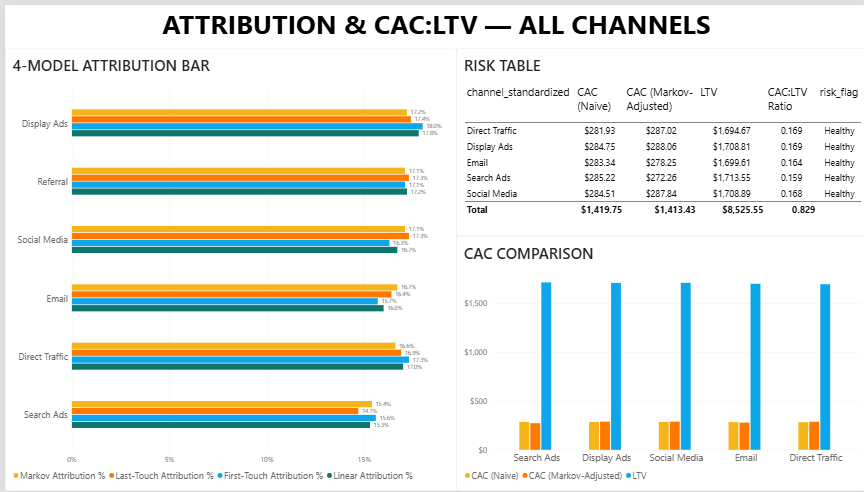

What the dashboard file says about the page in this screenshot:
{"tool":"powerbi","page":{"name":"ATTRIBUTION & CAC:LTV — ALL CHANNELS","canvas":[1920,1080],"ordinal":2},"visuals":[{"type":"clusteredBarChart","title":"4-MODEL ATTRIBUTION BAR","fields":{"Category":["attribution_comparison.channel_standardized"],"Y":["Key Measures.Markov Attribution %","Key Measures.Last-Touch Attribution %","Key Measures.First-Touch Attribution %","Key Measures.Linear Attribution %"]},"box":[0,78.1,1002.8,1002.8],"z":0},{"type":"textbox","box":[0,0,1919.1,77.2],"z":1000},{"type":"clusteredColumnChart","title":"CAC COMPARISON","fields":{"Category":["cac_ltv_analysis.channel_standardized"],"Y":["Key Measures.CAC (Naive)","Key Measures.CAC (Markov-Adjusted)","Key Measures.LTV"]},"box":[1002.8,492.8,917.4,588],"z":2000},{"type":"tableEx","title":"RISK TABLE","fields":{"Values":["cac_ltv_analysis.channel_standardized","Key Measures.CAC (Naive)","Key Measures.CAC (Markov-Adjusted)","Key Measures.LTV","Key Measures.CAC:LTV Ratio","cac_ltv_analysis.risk_flag"]},"box":[1002.8,78.1,917.4,414.8],"z":3000}]}

Visuals, with their boxes in screenshot pixels (x1, y1, x2, y2), scaled from the page's 1920x1080 canvas onto the 864x492 screenshot:
"4-MODEL ATTRIBUTION BAR" clusteredBarChart: 0, 36, 451, 491
textbox: 0, 0, 863, 35
"CAC COMPARISON" clusteredColumnChart: 451, 224, 863, 491
"RISK TABLE" tableEx: 451, 36, 863, 225
